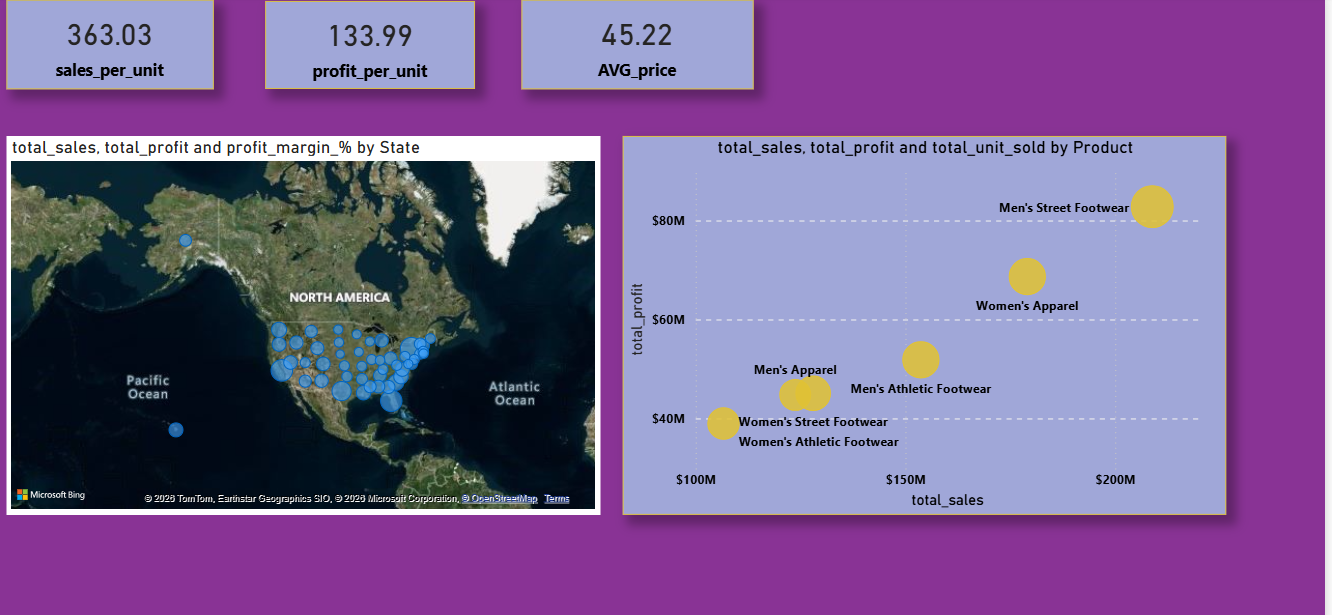

The dashboard page shown, as its layout file describes it:
{"tool":"powerbi","page":{"name":"Page 2","canvas":[1280,720],"ordinal":1},"visuals":[{"type":"card","fields":{"Values":["Data_sales.sales_per_unit"]},"box":[7.5,3.8,200,86.2],"z":0},{"type":"card","fields":{"Values":["Data_sales.AVG_price"]},"box":[503.8,3.8,223.8,86.2],"z":1000},{"type":"card","fields":{"Values":["Data_sales.profit_per_unit"]},"box":[257.5,5,202.5,85],"z":2000},{"type":"map","fields":{"Size":["Data_sales.total_sales"],"Category":["Data_sales.State"]},"box":[7.2,135.1,573.1,365.6],"z":3000},{"type":"scatterChart","fields":{"X":["Data_sales.total_sales"],"Y":["Data_sales.total_profit"],"Category":["Data_sales.Product"],"Size":["Data_sales.total_unit_sold"]},"box":[602,135.1,582.7,365.6],"z":4000}]}

Visuals, with their boxes on the page's 1280x720 design canvas (x1, y1, x2, y2). These are canvas units, not pixel positions in the 1332x615 screenshot, which may show the page scaled, cropped or inside an application window:
card - Data_sales.sales_per_unit: {"left": 8, "top": 4, "right": 208, "bottom": 90}
card - Data_sales.AVG_price: {"left": 504, "top": 4, "right": 728, "bottom": 90}
card - Data_sales.profit_per_unit: {"left": 258, "top": 5, "right": 460, "bottom": 90}
map - Data_sales.total_sales x Data_sales.State: {"left": 7, "top": 135, "right": 580, "bottom": 501}
scatterChart - Data_sales.total_sales x Data_sales.total_profit: {"left": 602, "top": 135, "right": 1185, "bottom": 501}
